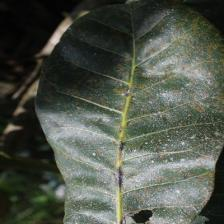red rust: (32, 0, 223, 223)
